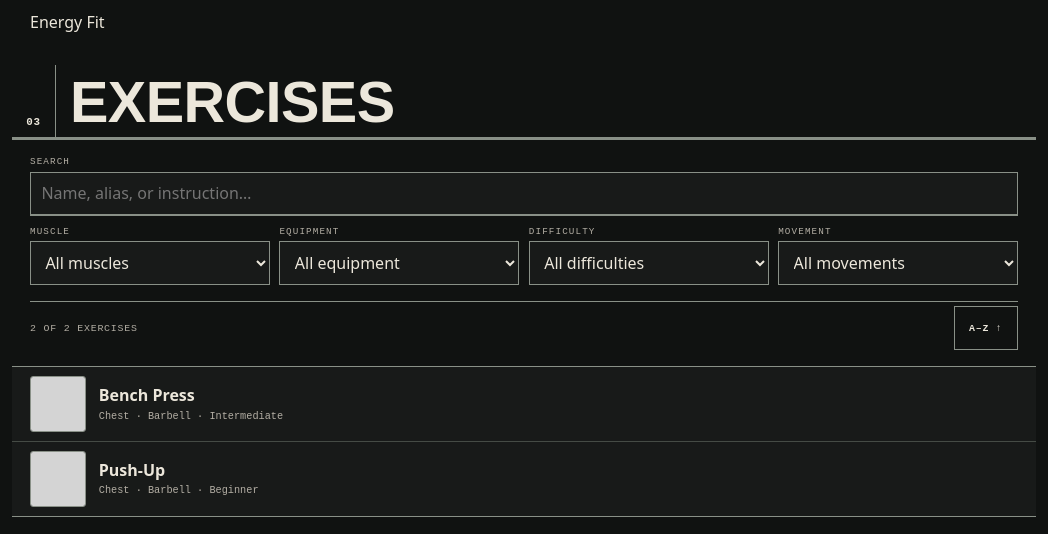
Test: ExercisesPage › filters the list by difficulty
Expected: the text "Bench Press" is shown, [99,384,195,406]
Select "Beginner" in the dropdown labelled "Difficulty". click: (649, 263)
box: [529,241,769,285]
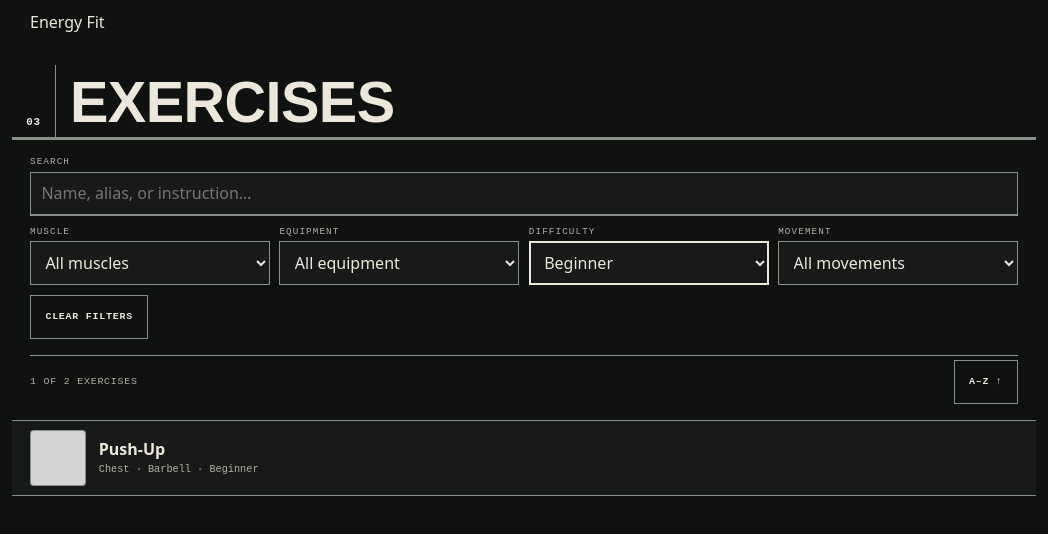
Expected: the text "Push-Up" is shown, [99,438,165,460]
Expected: the button "Bench Press" is gone
